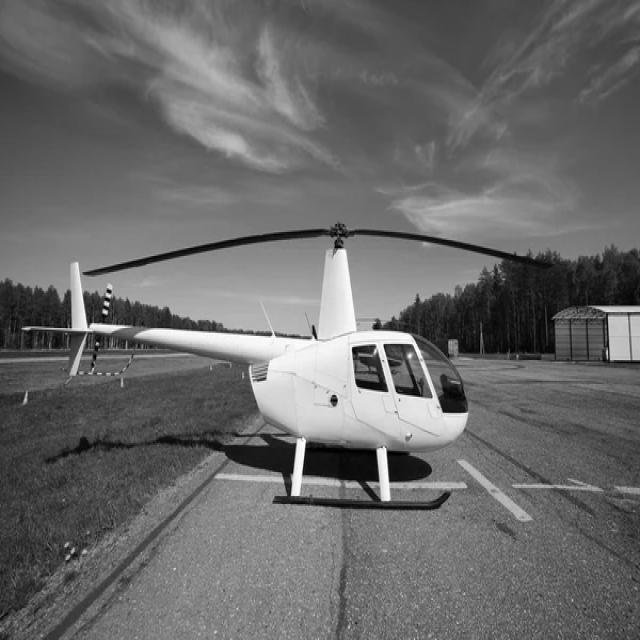Helicopter: (32, 214, 566, 527)
